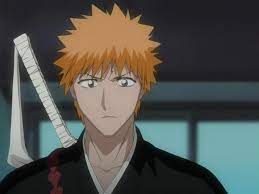Ichigo: (68, 9, 149, 139)
